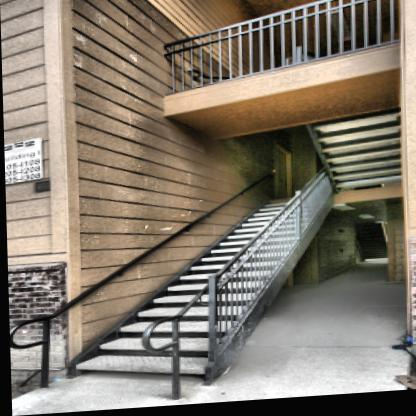stair: (85, 178, 316, 375)
